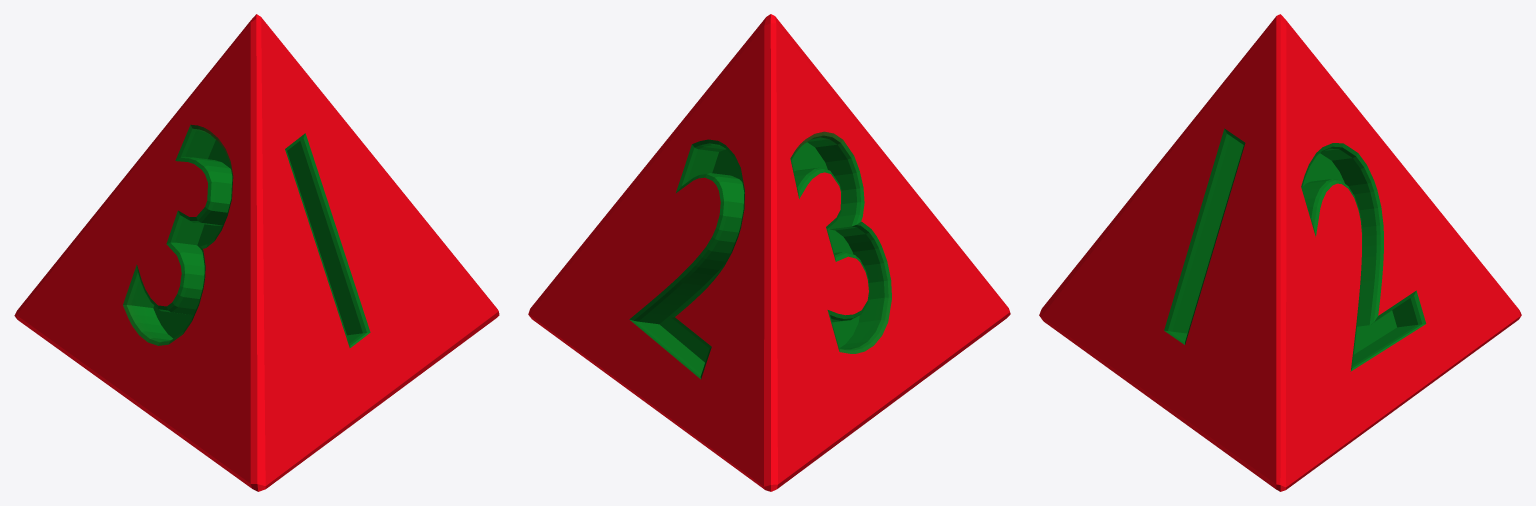
3 views of the same model, side by side, from view 1: azimuth 30°, elevation 25°; view 2: azimuth 150°, elevation 25°; view 3: azimuth 270°, elevation 25° (orthographic).
Parts seen in each view (by area): view 1: Solid; view 2: Solid; view 3: Solid.
Boxes of the visible parts, x1,y1,x2,y2 form: Solid: (14, 14, 499, 491); Solid: (528, 14, 1010, 491); Solid: (1039, 14, 1521, 491).
Size of the model in its own units: 1.37 by 1.3 by 1.57.
Materials: 1 (1 with a texture image).
